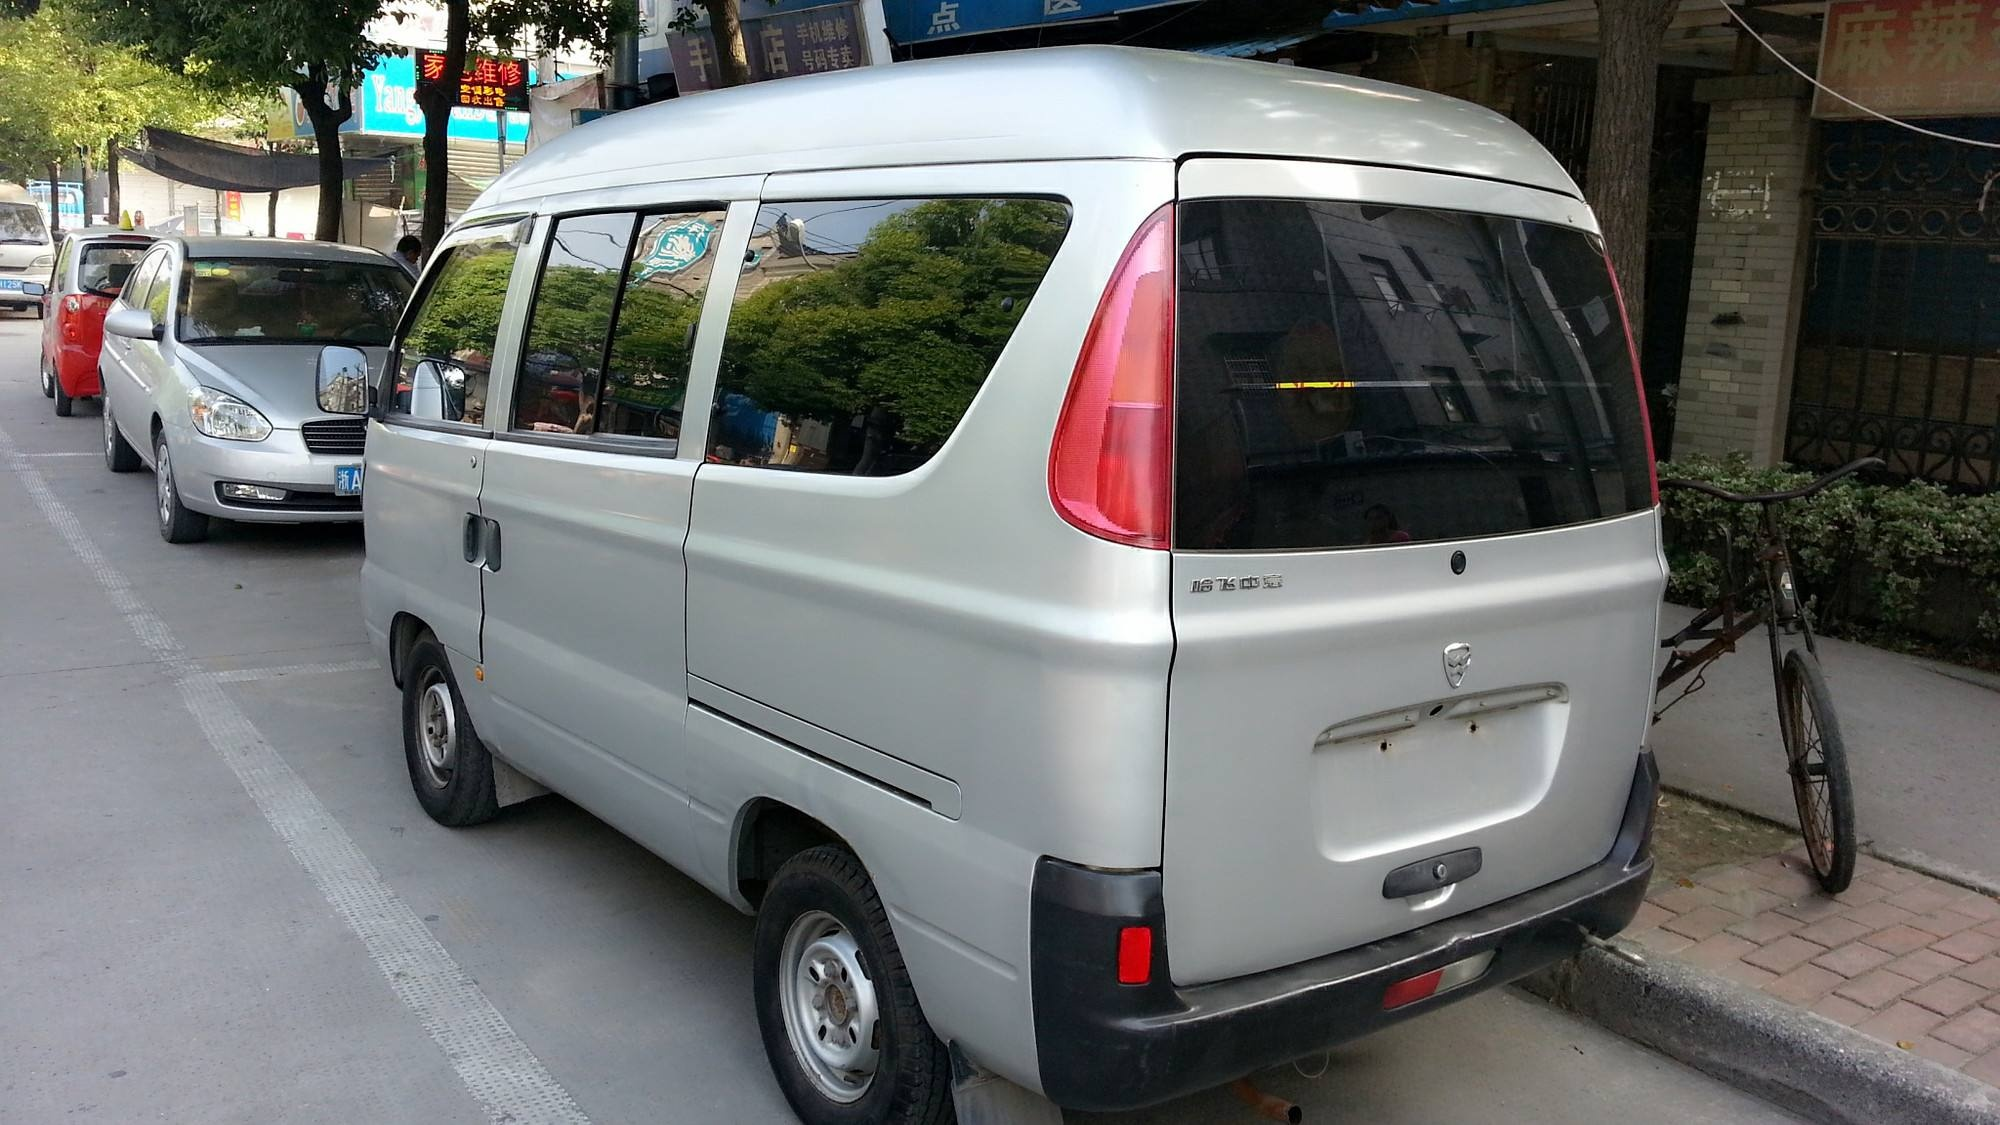family sedan: (71, 209, 479, 569)
minibus: (359, 76, 1696, 1125)
